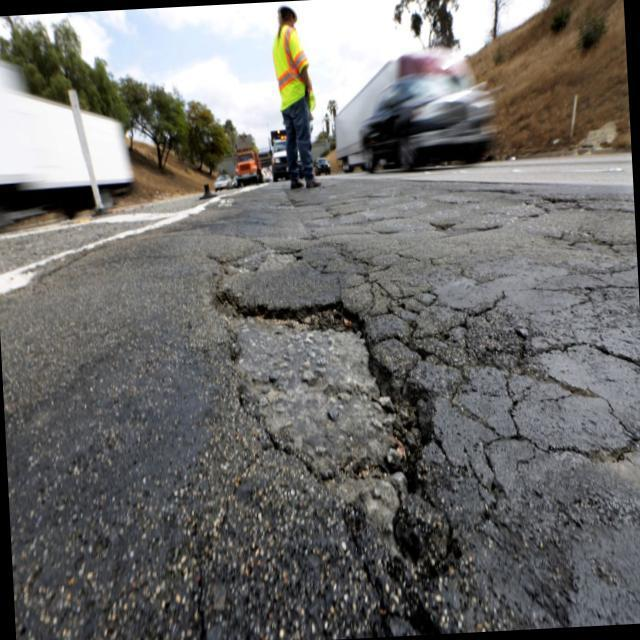Pothole: (216, 264, 444, 522)
